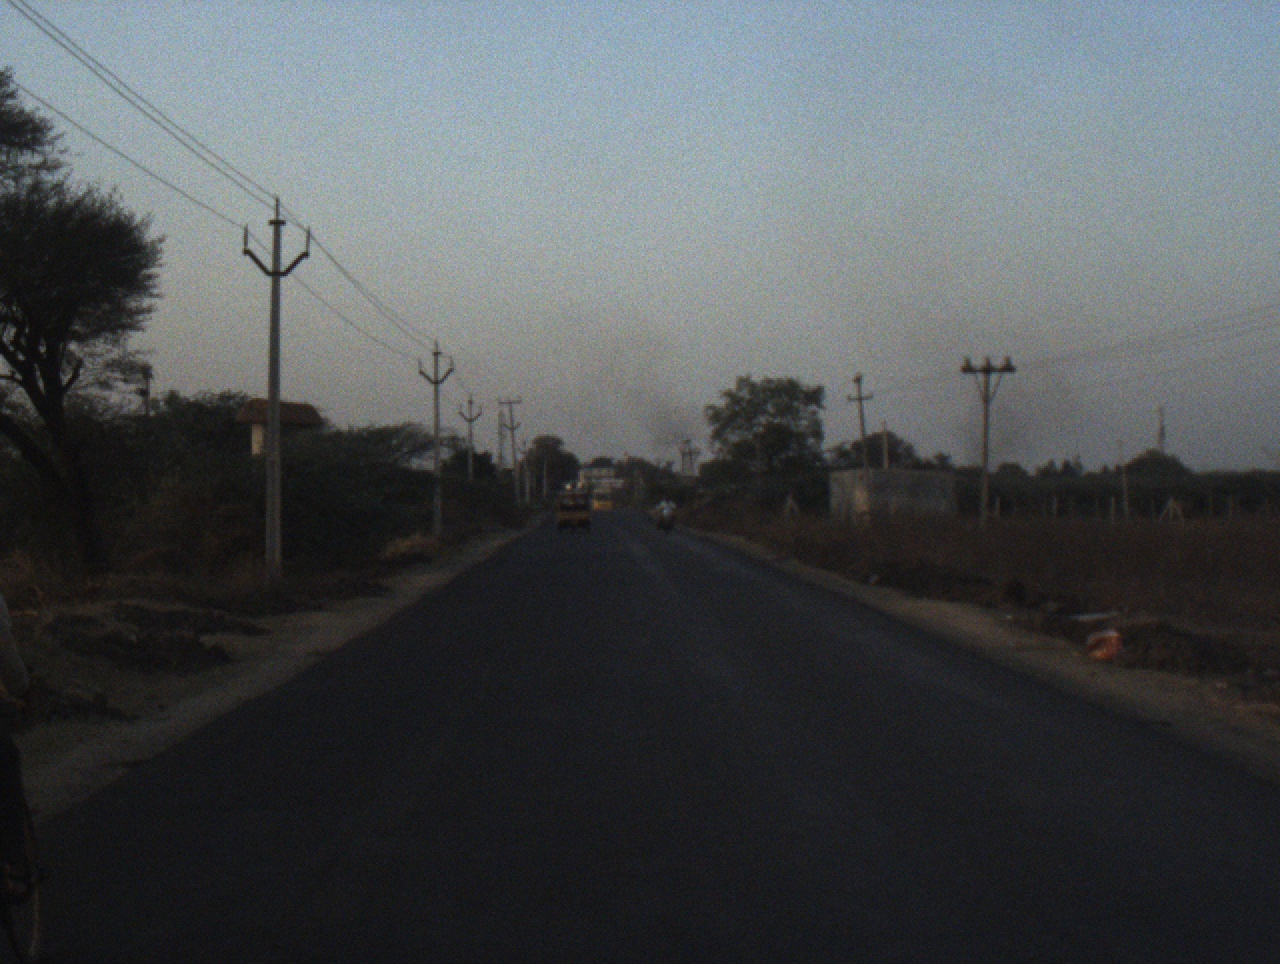autorickshaw: (554, 481, 595, 533)
bus: (588, 485, 616, 514)
motorcycle: (656, 509, 677, 535)
rider: (656, 494, 676, 531)
